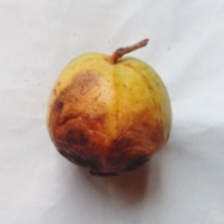guava: (35, 34, 210, 187)
